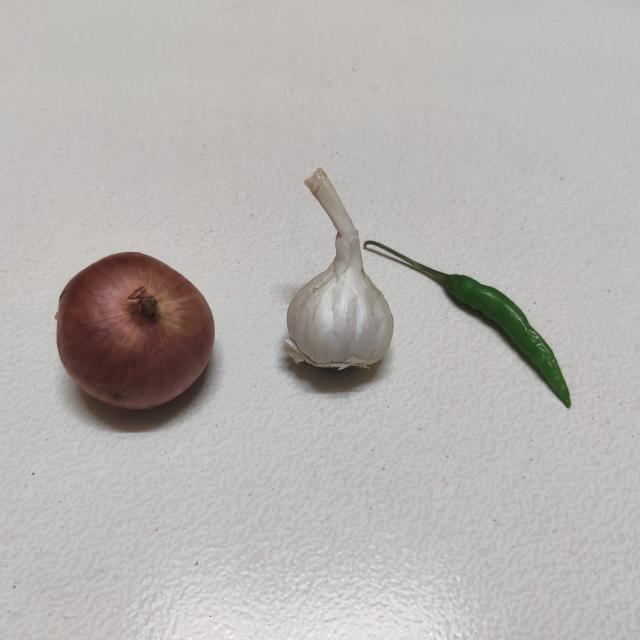Organik: (44, 237, 227, 440), (402, 225, 585, 423), (272, 140, 406, 400)
